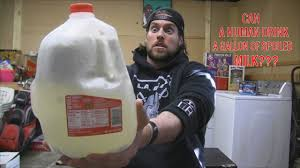milk: (40, 6, 140, 154)
